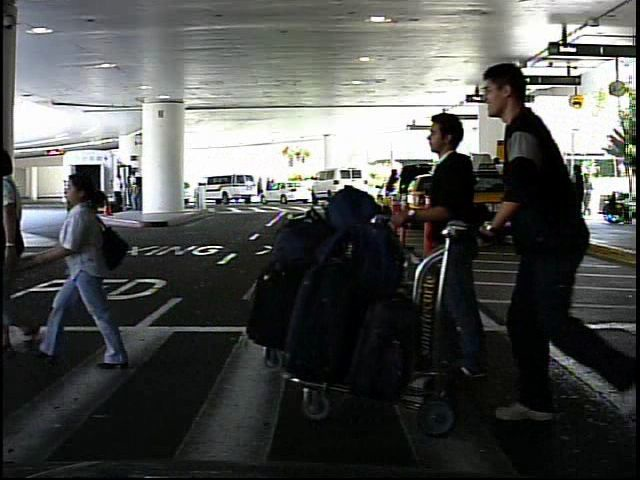person: (485, 48, 602, 425), (390, 107, 517, 381), (34, 157, 134, 382), (109, 171, 127, 221), (582, 170, 601, 216)
